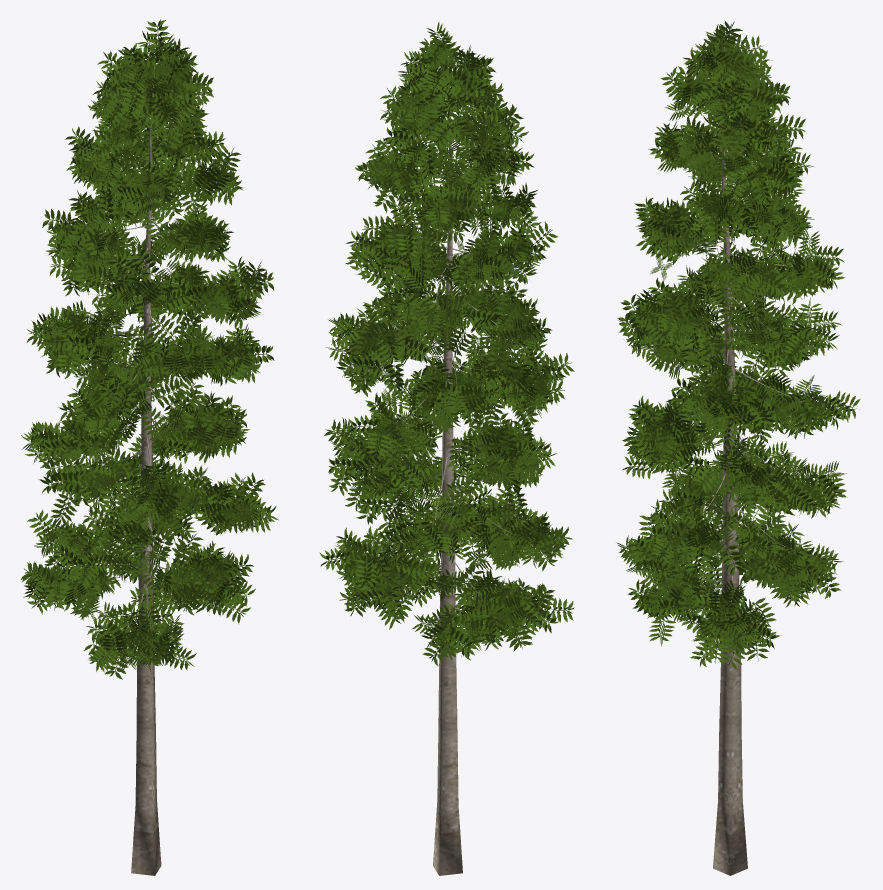
File: DamarTree_001.fbx
3 views of the same model, side by side, from view 1: azimuth 30°, elevation 25°; view 2: azimuth 150°, elevation 25°; view 3: azimuth 270°, elevation 25° (orthographic).
Visible parts, largest first — view 1: DamarTree.001; view 2: DamarTree.001; view 3: DamarTree.001.
Boxes of the visible parts, box(x1,y1,x2,y2) form: DamarTree.001: box(20, 19, 278, 875); DamarTree.001: box(319, 21, 574, 875); DamarTree.001: box(616, 20, 860, 875).
Size of the model in its own units: 856 by 2878 by 787.
Materials: 2 (2 with a texture image).
